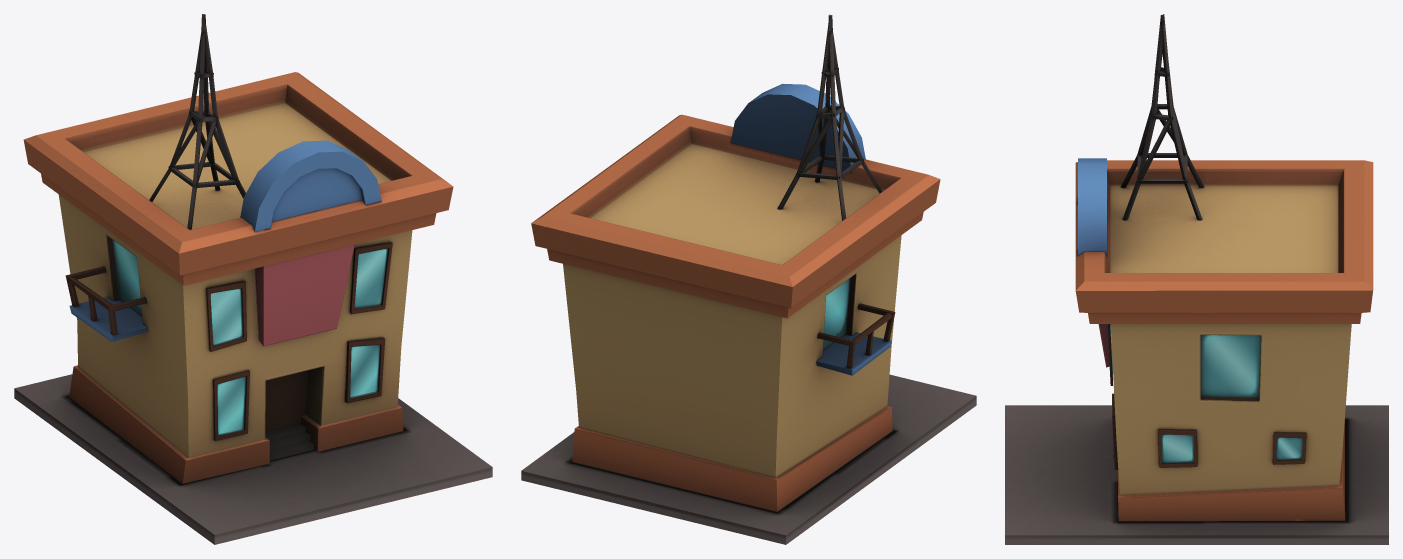
The model's file is b_prambors.FBX.
3 views of the same model, side by side, from view 1: azimuth 30°, elevation 25°; view 2: azimuth 150°, elevation 25°; view 3: azimuth 270°, elevation 25° (orthographic). The views are drawn at different scales.
Visible parts, largest first — view 1: toko_03; view 2: toko_03; view 3: toko_03.
Part boxes in pixels (x1,y1,x2,y2): toko_03: (14,14,492,544); toko_03: (521,14,976,544); toko_03: (1005,14,1388,544).
Size of the model in its own units: 776 by 1166 by 935.
